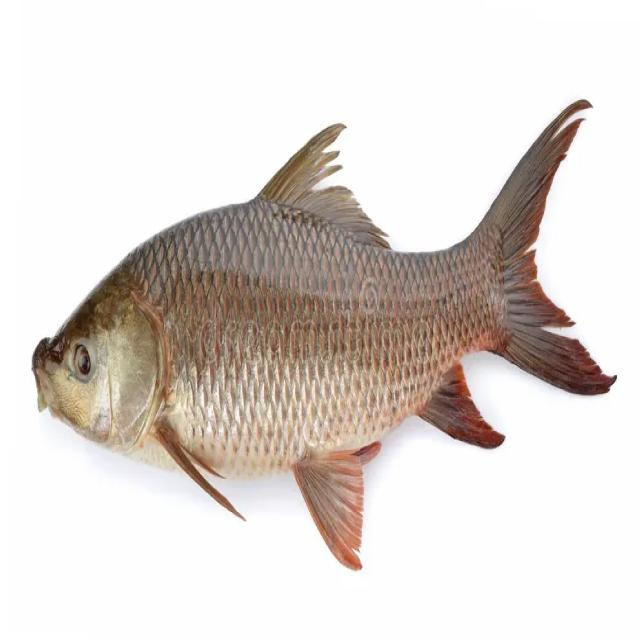Common carp: (31, 98, 616, 568)
